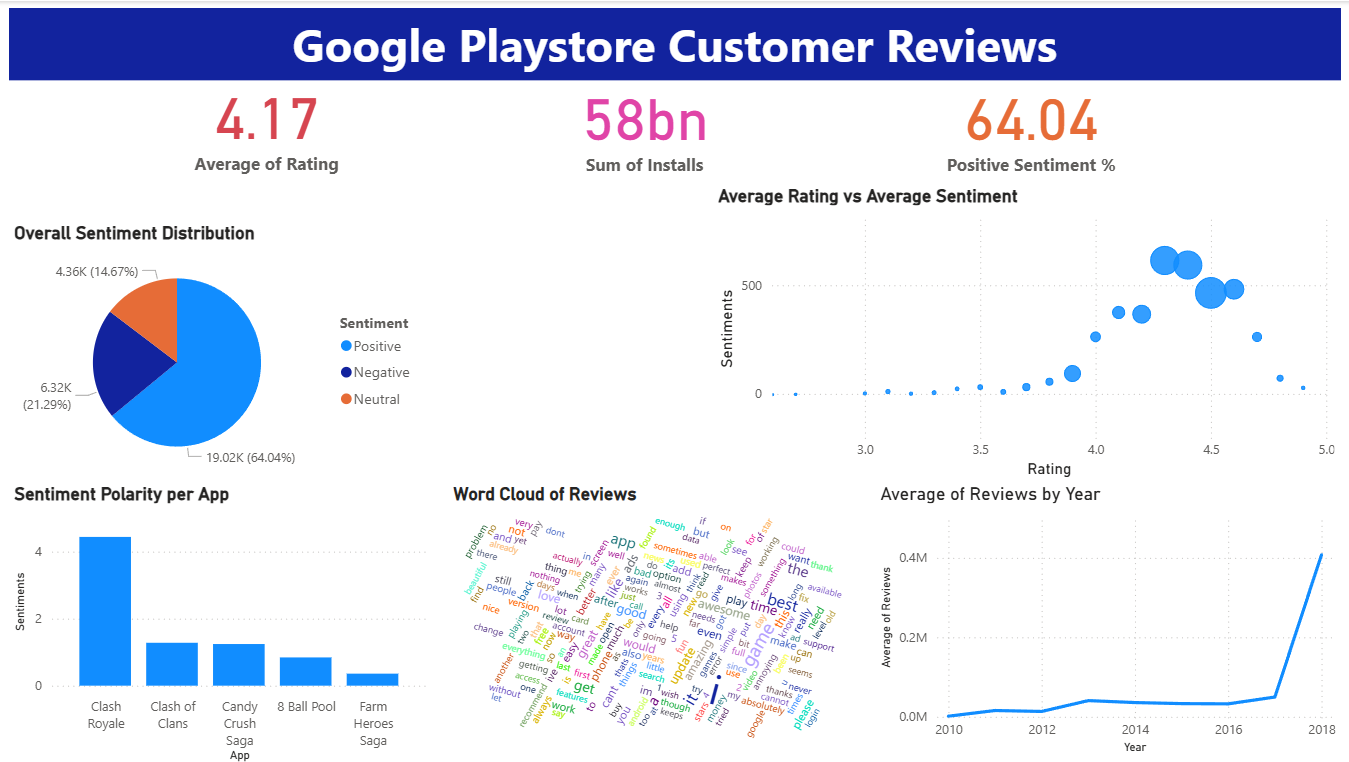

The dashboard page shown, as its layout file describes it:
{"tool":"powerbi","page":{"name":"Page 1","canvas":[1280,720],"ordinal":0},"visuals":[{"type":"pieChart","title":"Overall Sentiment Distribution","fields":{"Category":["googleplaystore_user_reviews_cleaned.Sentiment"],"Y":["CountNonNull(googleplaystore_user_reviews_cleaned.Sentiment)"]},"box":[14.6,208.1,397.8,245.1],"z":0},{"type":"columnChart","title":"Sentiment Polarity per App","fields":{"Y":["Sum(googleplaystore_user_reviews_cleaned.Sentiment_Polarity)"],"Category":["googleplaystore_cleaned.App"]},"box":[14.6,453.3,397.8,266.5],"z":1000},{"type":"scatterChart","title":"Average Rating vs Average Sentiment","fields":{"Y":["Sum(googleplaystore_user_reviews_cleaned.Sentiment_Polarity)"],"X":["googleplaystore_cleaned.Rating"],"Size":["Sum(googleplaystore_cleaned.Installs)"]},"box":[677,173.1,589.4,280.1],"z":2000},{"type":"WordCloud1447959067750","title":"Word Cloud of Reviews","fields":{"Category":["googleplaystore_user_reviews_cleaned.Translated_Review"]},"box":[428,453.3,400.7,266.5],"z":3000},{"type":"lineChart","fields":{"Y":["Avg(googleplaystore_cleaned.Reviews)"],"Category":["googleplaystore_cleaned.Last Updated.Variation.Date Hierarchy.Year"]},"box":[828.7,453.3,437.7,258.7],"z":4000},{"type":"card","fields":{"Values":["Sum(googleplaystore_cleaned.Installs)"]},"box":[487.3,57.4,250.9,115.7],"z":5000},{"type":"card","fields":{"Values":["Avg(googleplaystore_cleaned.Rating)"]},"box":[113.8,57.4,286.9,113.8],"z":6000},{"type":"card","fields":{"Values":["googleplaystore_cleaned.Positive Sentiment %"]},"box":[828.7,57.4,293.7,115.7],"z":7000},{"type":"textbox","box":[14.6,6.8,1251.8,68.1],"z":8000}]}

Visuals, with their boxes in screenshot pixels (x1, y1, x2, y2), scaled from the page's 1280x720 canvas onto the 1349x762 screenshot:
"Overall Sentiment Distribution" pieChart: select_region(15, 220, 435, 480)
"Sentiment Polarity per App" columnChart: select_region(15, 480, 435, 761)
"Average Rating vs Average Sentiment" scatterChart: select_region(713, 183, 1335, 480)
"Word Cloud of Reviews" WordCloud1447959067750: select_region(451, 480, 873, 761)
lineChart - Avg(googleplaystore_cleaned.Reviews) x googleplaystore_cleaned.Last Updated.Variation.Date Hierarchy.Year: select_region(873, 480, 1335, 754)
card - Sum(googleplaystore_cleaned.Installs): select_region(514, 61, 778, 183)
card - Avg(googleplaystore_cleaned.Rating): select_region(120, 61, 422, 181)
card - googleplaystore_cleaned.Positive Sentiment %: select_region(873, 61, 1183, 183)
textbox: select_region(15, 7, 1335, 79)
